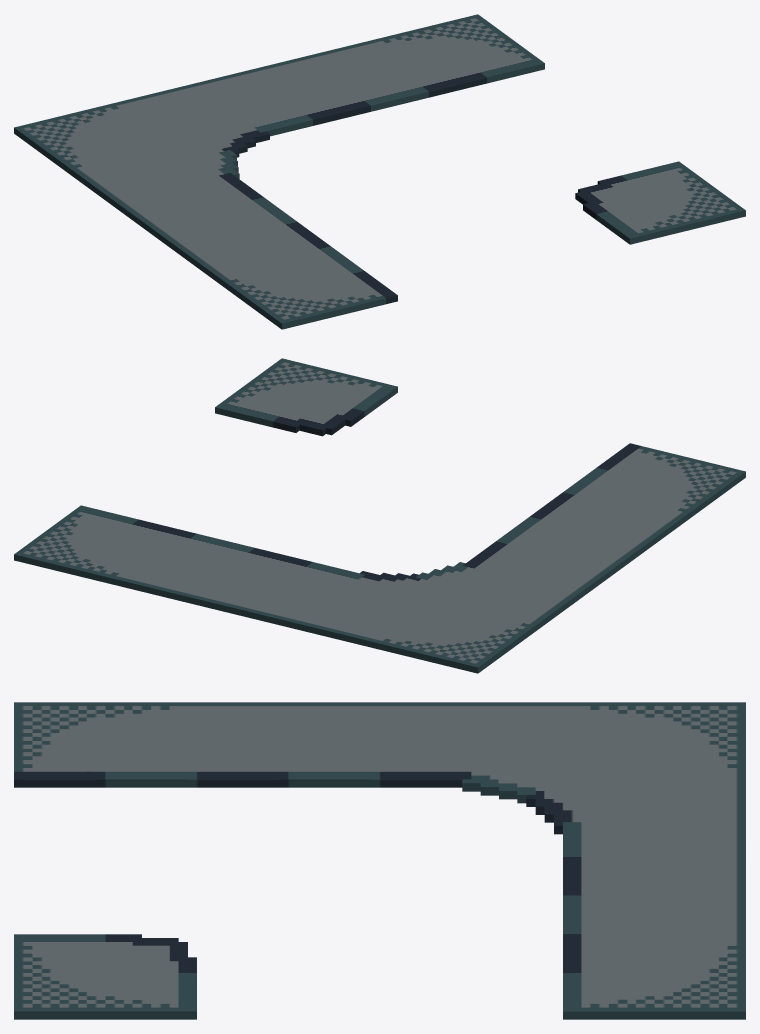
The model's file is road_2_overtile.glb.
3 views of the same model, one above another, from view 1: azimuth 30°, elevation 25°; view 2: azimuth 150°, elevation 25°; view 3: azimuth 270°, elevation 25° (orthographic). The views are drawn at different scales.
Visible parts, largest first — view 1: road_2_overtile; view 2: road_2_overtile; view 3: road_2_overtile.
Boxes of the visible parts, box(x1,y1,x2,y2) form: road_2_overtile: box(14, 14, 745, 329); road_2_overtile: box(14, 358, 745, 673); road_2_overtile: box(14, 702, 745, 1019).
Bounding box in the file's own units: 8 × 0.1 × 8.
Materials: 1 (1 with a texture image).
